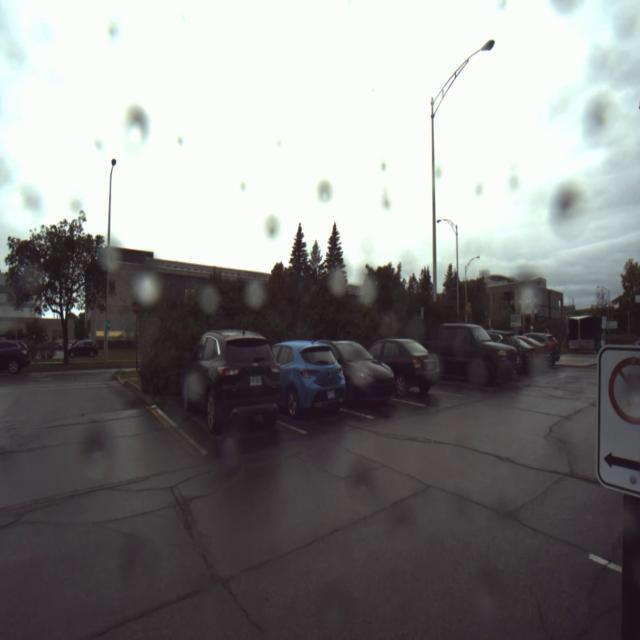car: (181, 330, 280, 434), (438, 321, 524, 387), (285, 335, 345, 418), (376, 330, 444, 396)
